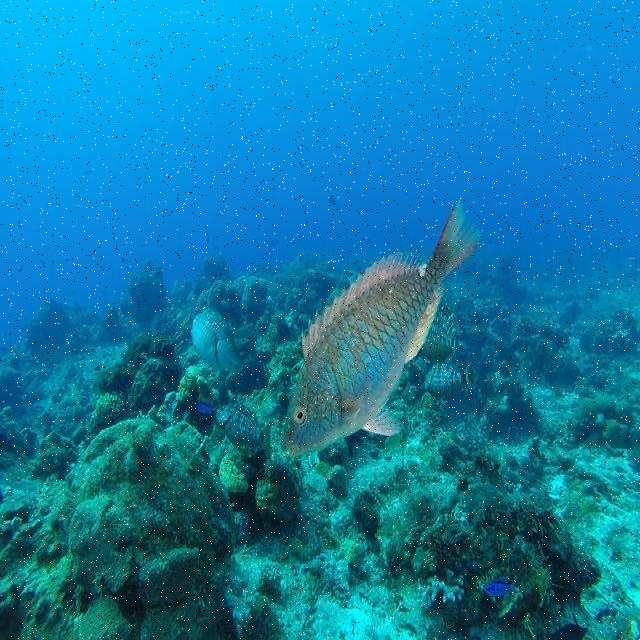fish: (285, 195, 486, 459), (190, 310, 242, 373), (197, 401, 261, 448)
